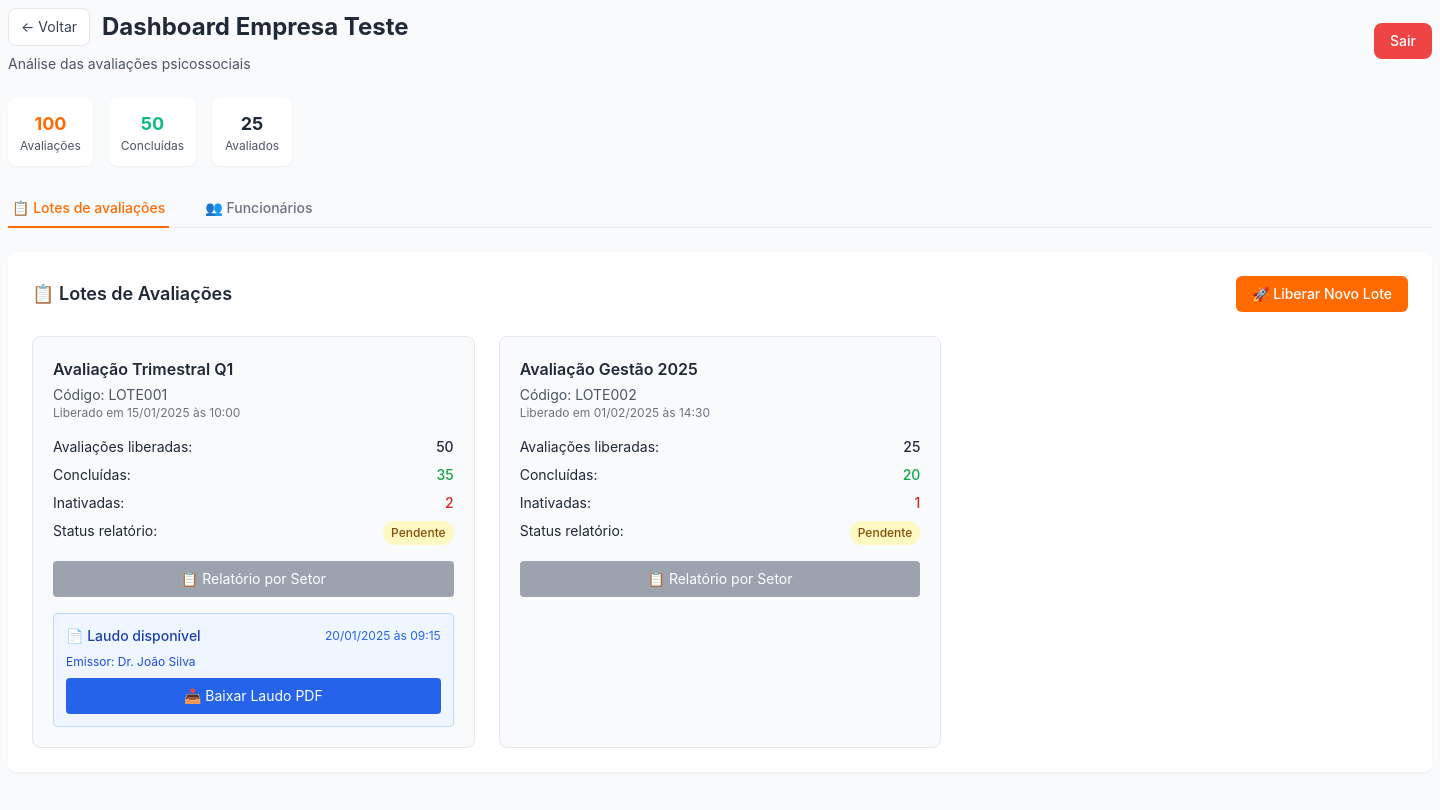
Interface com Abas - Dashboard Empresa › Sistema de Abas › deve alternar para aba "Funcionários" ao clicar
This screenshot has width=1440, height=810.
Expected: the button "📋 Lotes de avaliações" is shown, [8, 190, 169, 228]
Click the button "👥 Funcionários".
click(259, 209)  # box [201, 190, 317, 228]
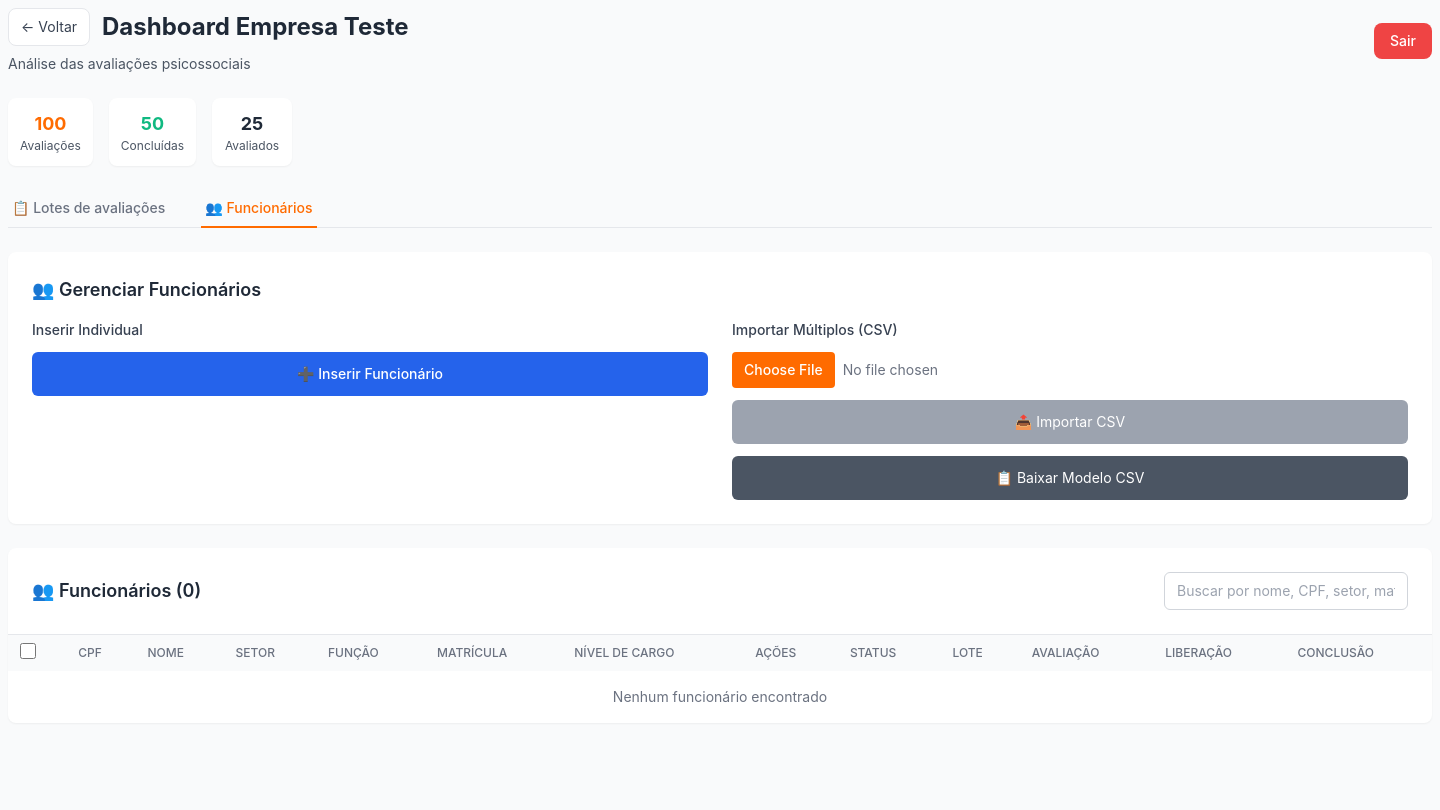
Expected: the heading "👥 Gerenciar Funcionários" is shown, [32, 279, 261, 300]
Expected: the heading "Inserir Individual" is shown, [32, 321, 143, 338]
